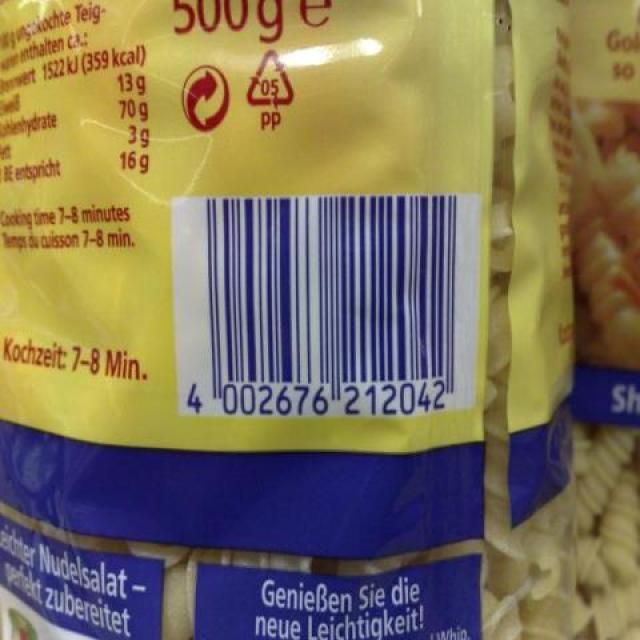Barcode: (171, 192, 473, 419)
